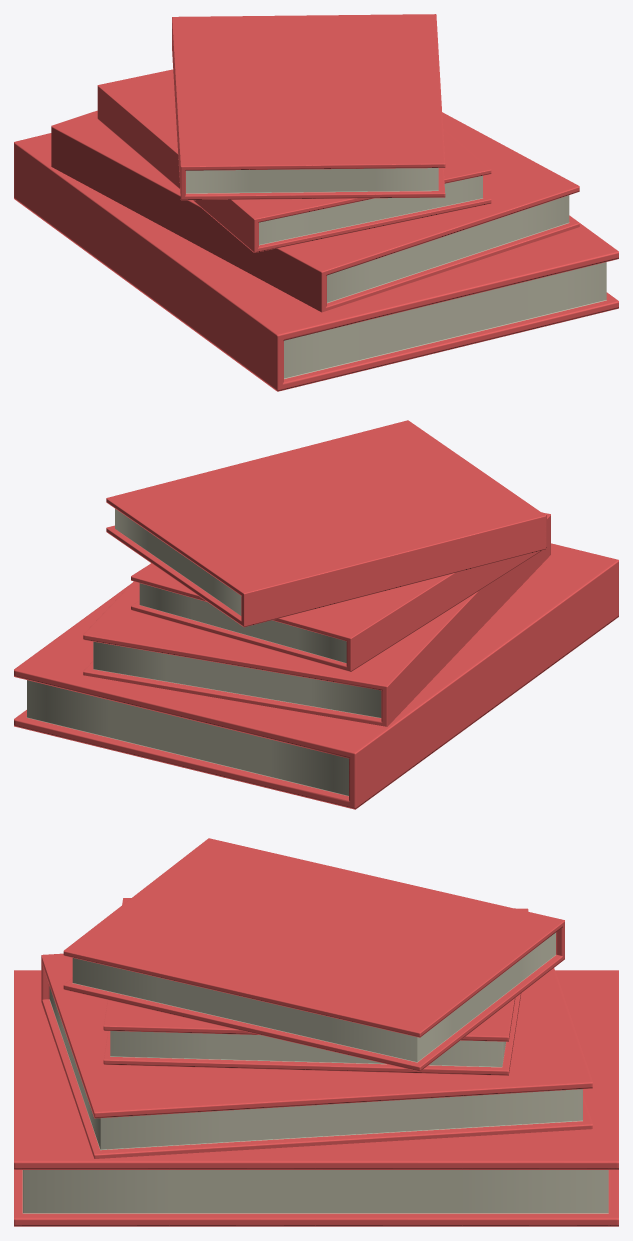
Rendered from books.fbx.
3 renders of one model, top to bottom at view 1: azimuth 30°, elevation 25°; view 2: azimuth 150°, elevation 25°; view 3: azimuth 270°, elevation 25°, orthographic. The views are drawn at different scales.
Visible parts, largest first — view 1: Book.003, Book, Book.001, Book.002; view 2: Book.003, Book, Book.001, Book.002; view 3: Book.003, Book, Book.001, Book.002.
Part boxes in pixels (x1,y1,x2,y2): Book.003: (172,14,445,200); Book: (14,133,618,391); Book.001: (51,110,579,312); Book.002: (97,69,491,252); Book.003: (106,420,545,627); Book: (14,543,618,809); Book.001: (83,513,550,726); Book.002: (131,512,546,671); Book.003: (63,838,564,1071); Book: (14,970,618,1226); Book.001: (41,953,592,1158); Book.002: (103,898,528,1075).
Size of the model in its own units: 22.09 by 9.94 by 28.55.
